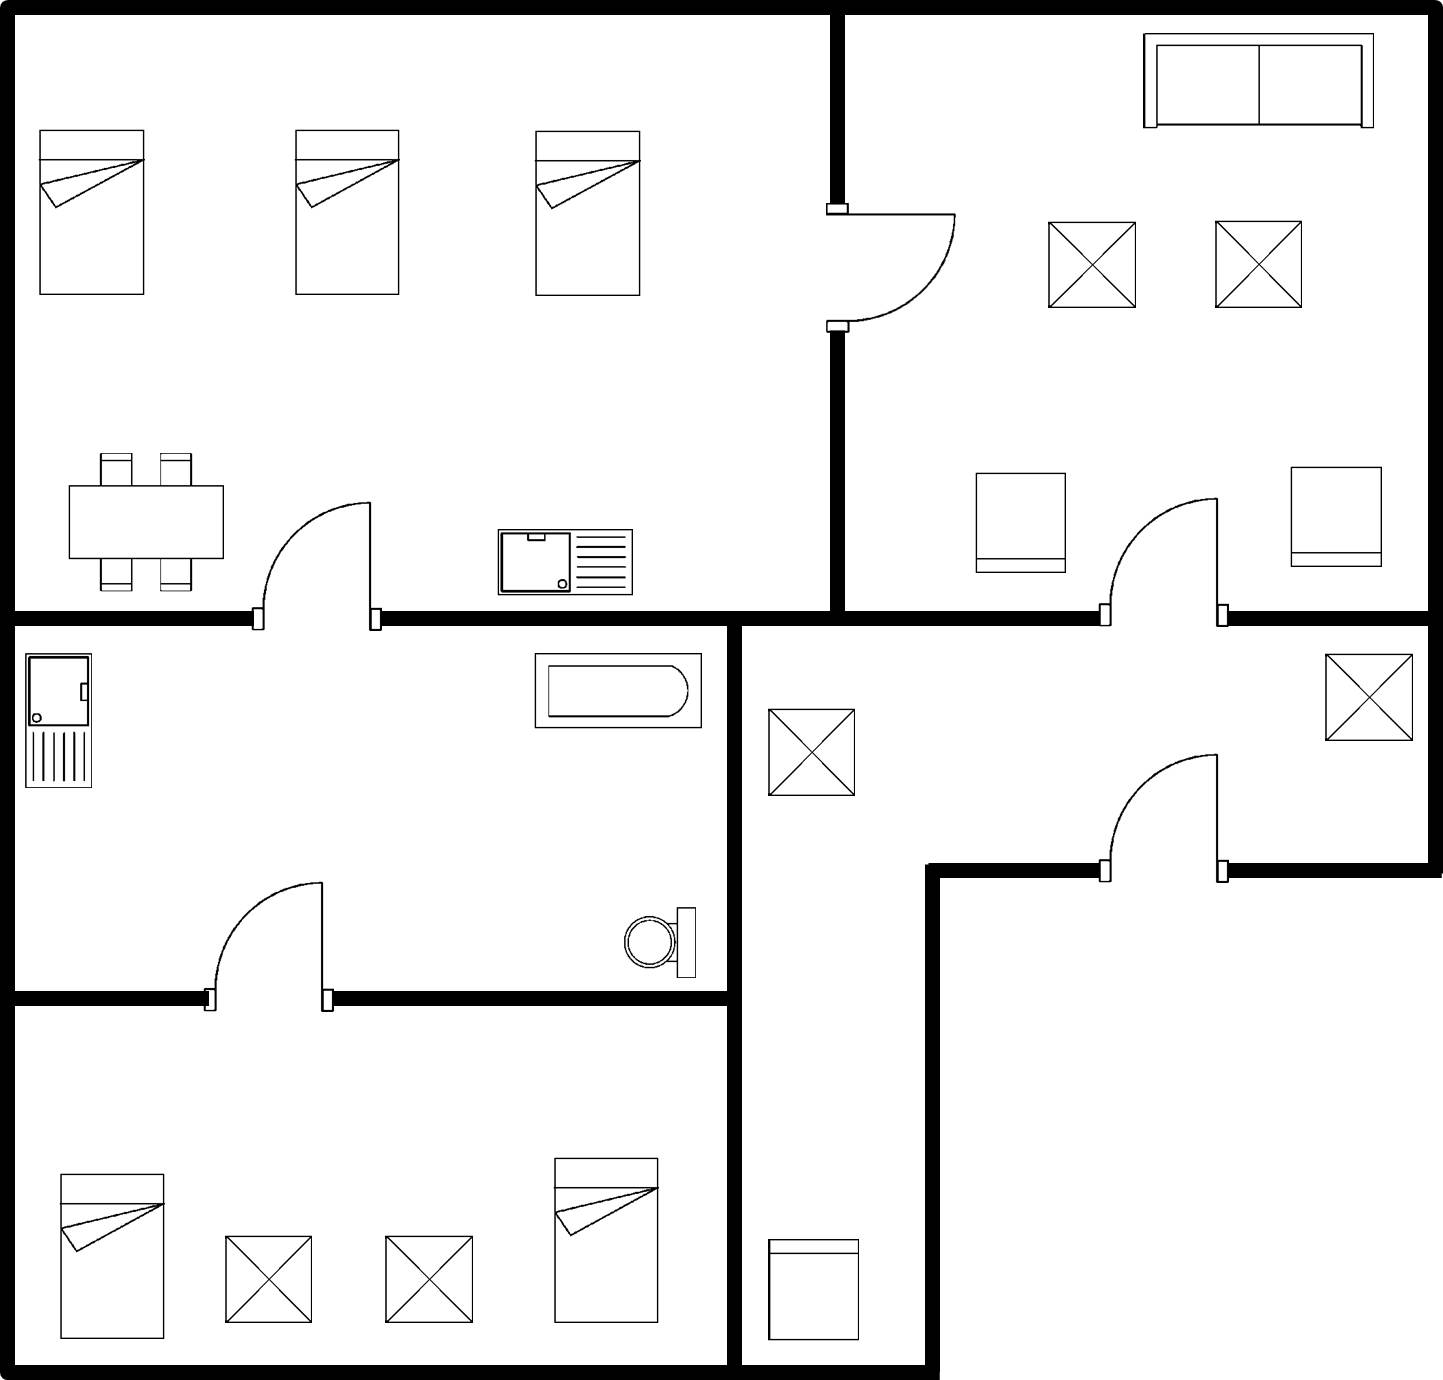bed: (48, 1164, 180, 1354), (544, 1149, 674, 1335), (27, 122, 155, 306), (524, 119, 648, 307), (286, 118, 409, 308)
coffee_table: (1038, 212, 1152, 320), (374, 1227, 482, 1337), (216, 1224, 321, 1333), (1315, 642, 1420, 750), (1202, 214, 1312, 316), (761, 697, 862, 808)
dining_table: (55, 441, 234, 600)
large_sink: (615, 896, 715, 985)
large_sofa: (1136, 24, 1385, 141)
sink: (16, 651, 101, 801), (490, 519, 639, 603)
small_sofa: (961, 461, 1081, 587), (755, 1228, 870, 1350), (1281, 454, 1392, 580)
tub: (523, 643, 711, 741)
